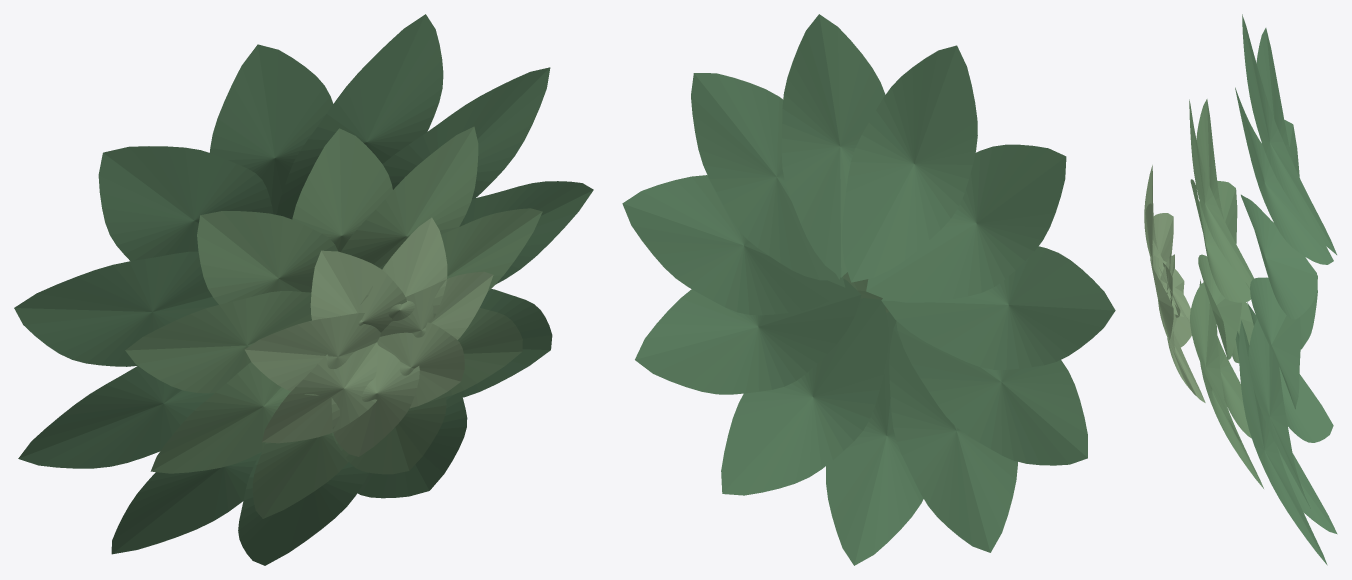
Rendered from lettuce_b.glb.
3 views of the same model, side by side, from view 1: azimuth 30°, elevation 25°; view 2: azimuth 150°, elevation 25°; view 3: azimuth 270°, elevation 25° (orthographic). The views are drawn at different scales.
Parts seen in each view (by area): view 1: Outer, Middle, Heart; view 2: Outer; view 3: Outer, Middle, Heart.
Part boxes in pixels (bbox=[...]): Outer: bbox=[14, 14, 593, 565]; Middle: bbox=[125, 126, 542, 518]; Heart: bbox=[244, 217, 493, 456]; Outer: bbox=[622, 14, 1115, 565]; Outer: bbox=[1235, 14, 1337, 565]; Middle: bbox=[1189, 99, 1263, 488]; Heart: bbox=[1144, 165, 1205, 402].
Size of the model in its own units: 0.5293 by 0.5076 by 0.1801.
